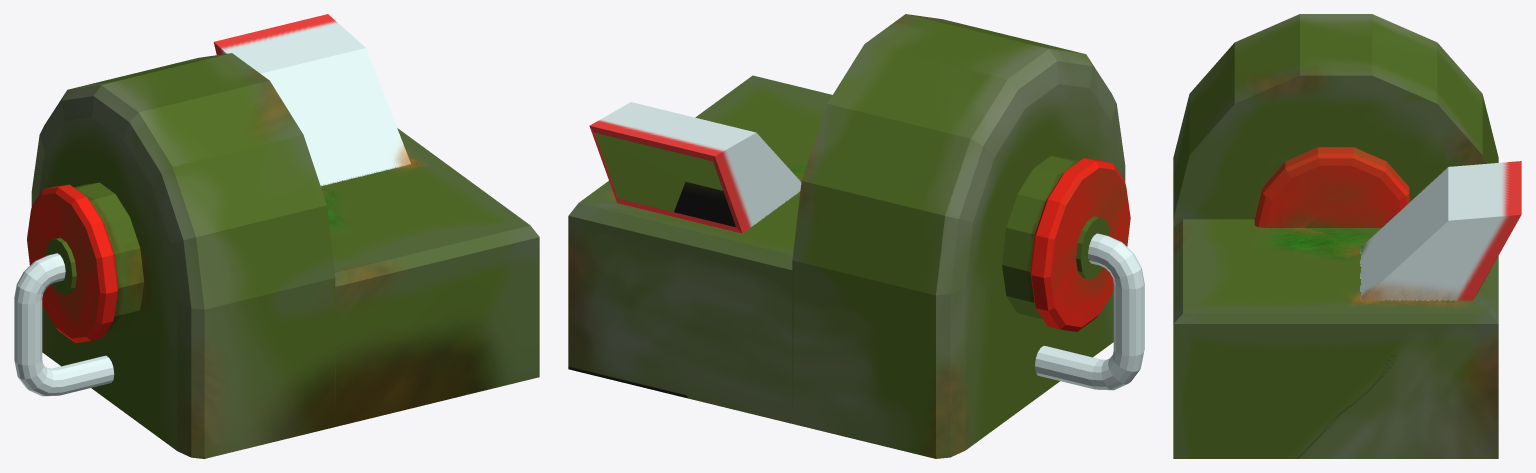
Rendered from minerFab.fbx.
3 views of the same model, side by side, from view 1: azimuth 30°, elevation 25°; view 2: azimuth 150°, elevation 25°; view 3: azimuth 270°, elevation 25° (orthographic). The views are drawn at different scales.
Parts seen in each view (by area): view 1: Cylinder; view 2: Cylinder; view 3: Cylinder.
Boxes of the visible parts, x1=… form: Cylinder: x1=14, y1=14, x2=539, y2=458; Cylinder: x1=568, y1=14, x2=1144, y2=458; Cylinder: x1=1173, y1=14, x2=1521, y2=458.
Size of the model in its own units: 300 by 195 by 214.
1 material, 1 textured.
